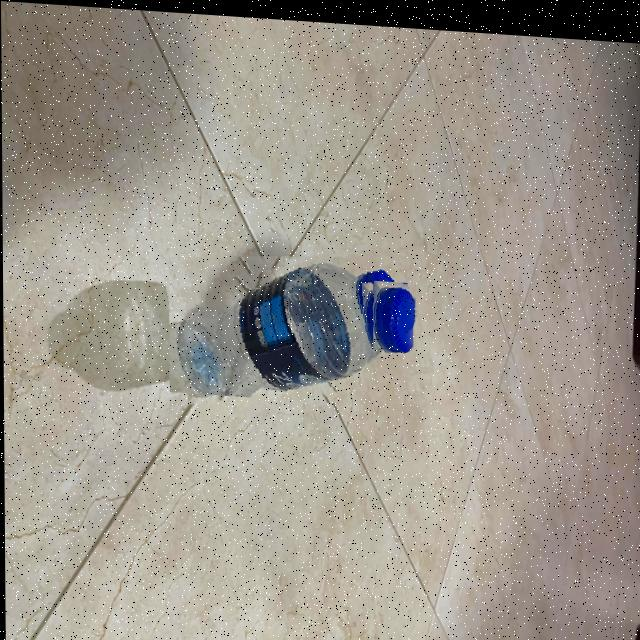litter: (167, 236, 429, 402), (371, 274, 415, 361)
